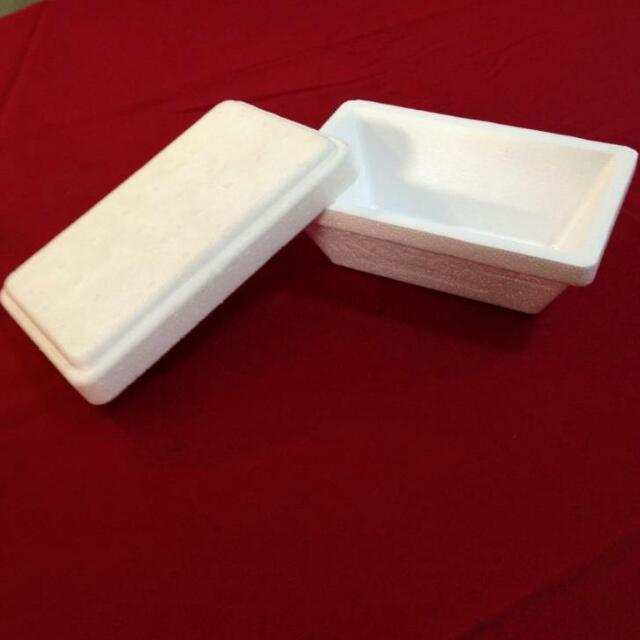Foam Box: (1, 91, 640, 410)
